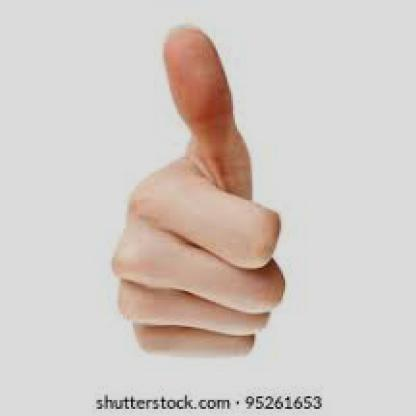Thumbs up: (112, 7, 268, 350)
